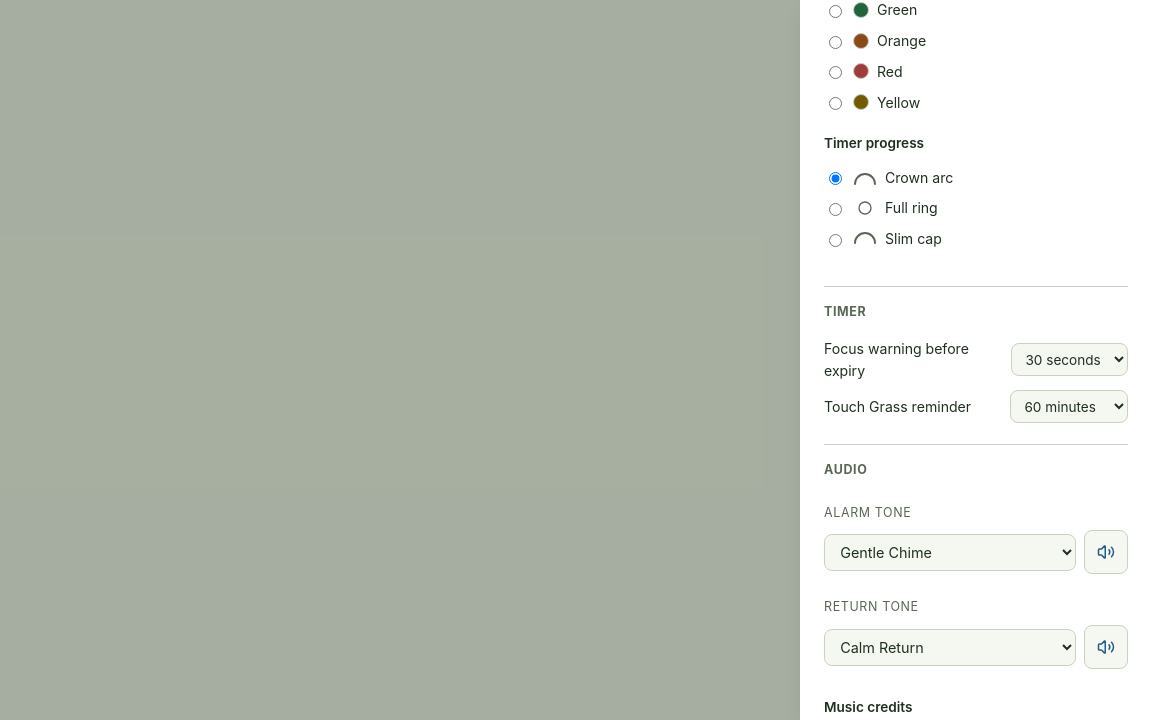
Test case: SettingsDrawer › shows a quiet inline Retry for a failed focus-warning write
(page scrolled)
Select "Off" in the dropdown labelled "Focus warning before expiry" at (1069, 360), box [1011,343,1128,376]
(page scrolled)
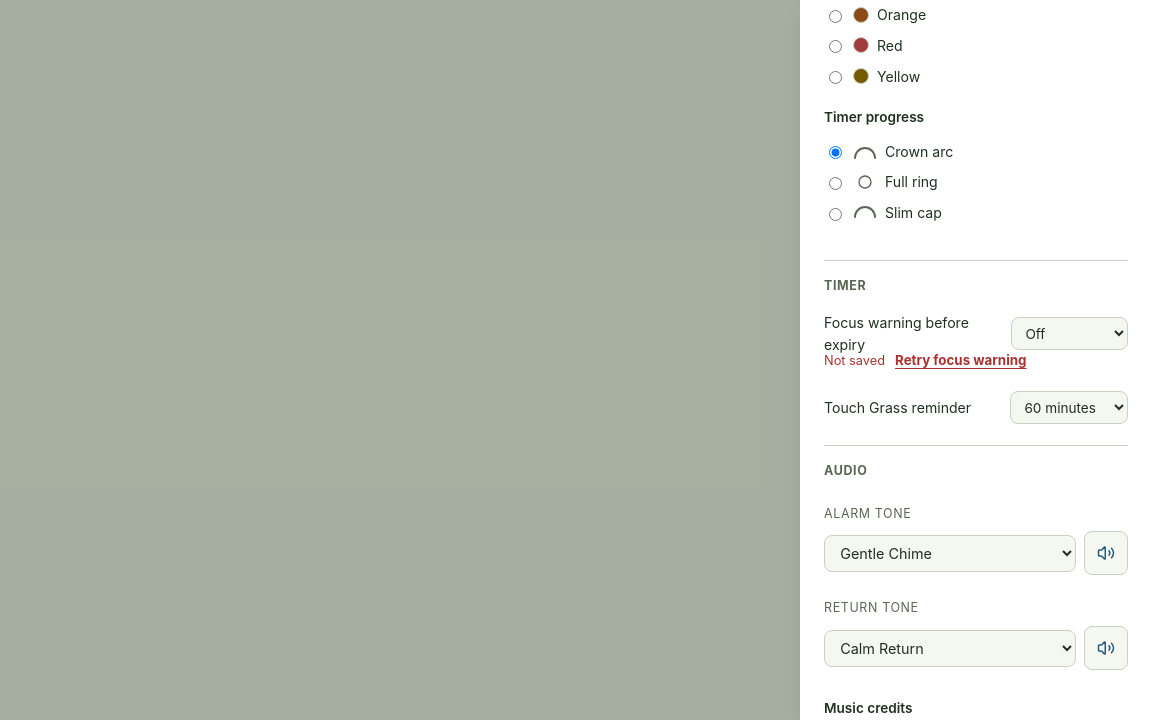
Check: the button "Retry focus warning" is shown
Click the button "Retry focus warning" at (961, 360), box [895,352,1026,368]
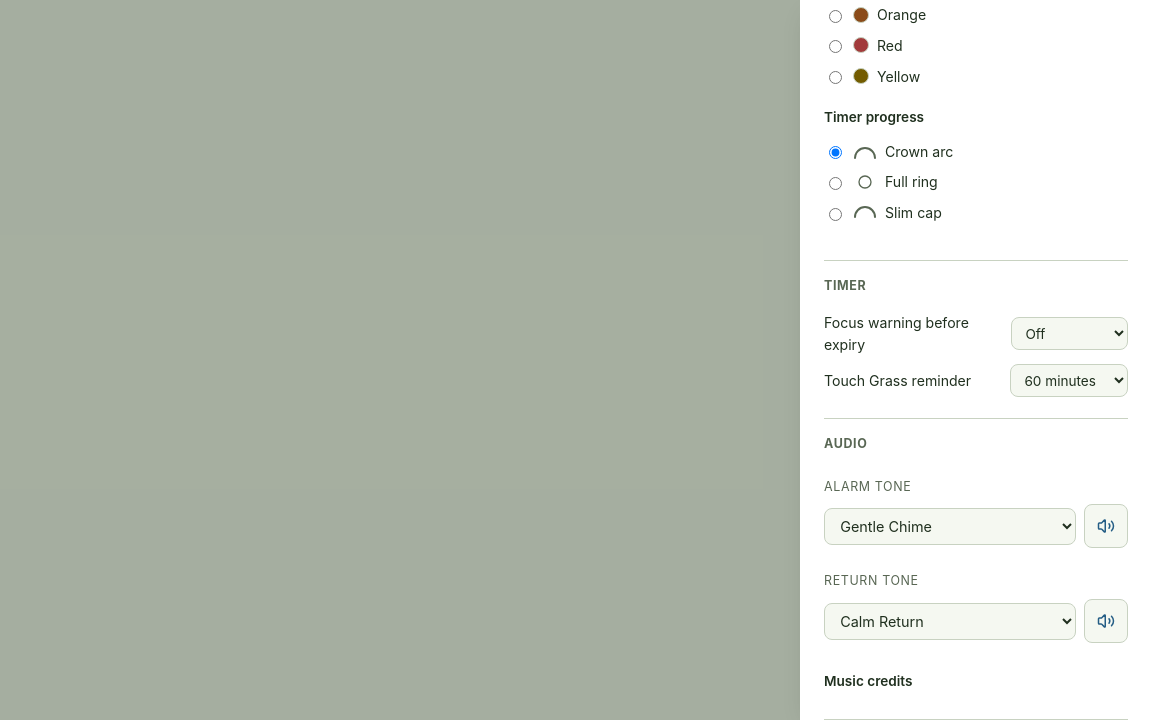
Check: the button "Retry focus warning" is gone
